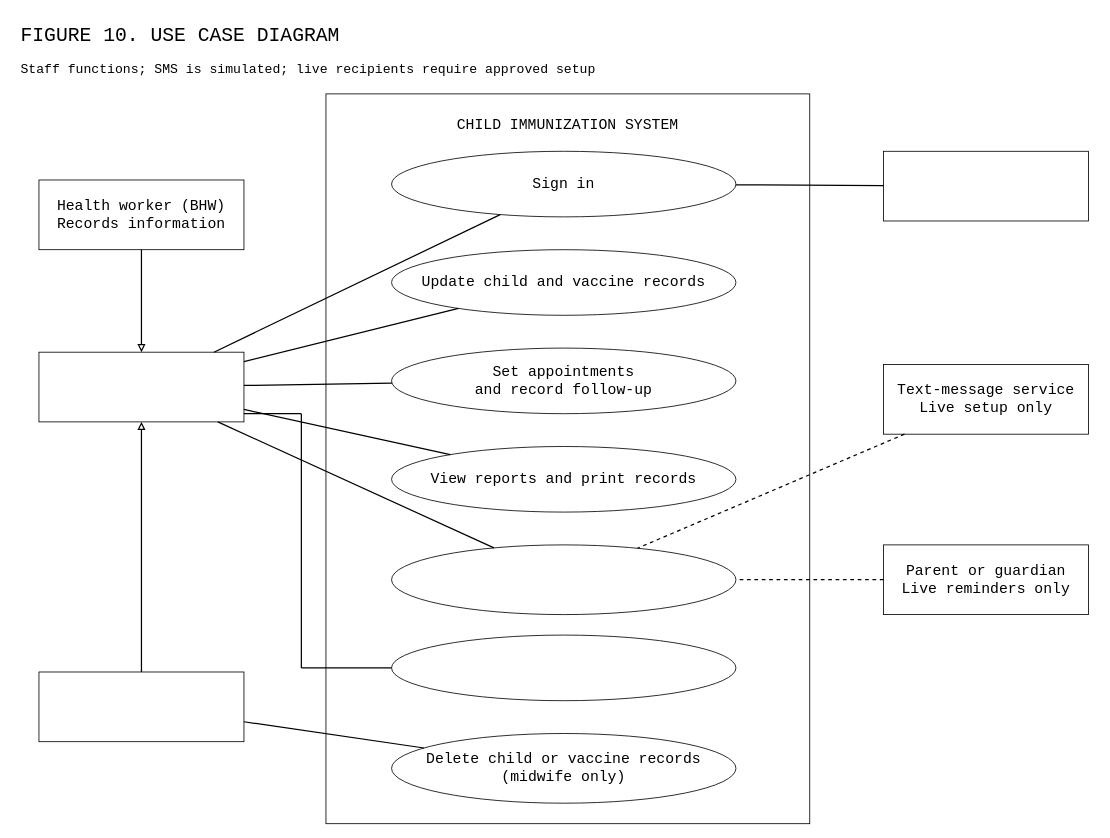
This 1110x838 diagram has some shape labels left out. Here are the shapes that lost their labels. From the top down, the centre of each, then its label:
pixel 986 185: Sign-in service Checks staff access
pixel 141 386: Health-center staff
pixel 563 579: Prepare reminders and check results
pixel 563 667: Review vaccine date patterns (experimental)
pixel 141 706: Midwife Has extra permissions
